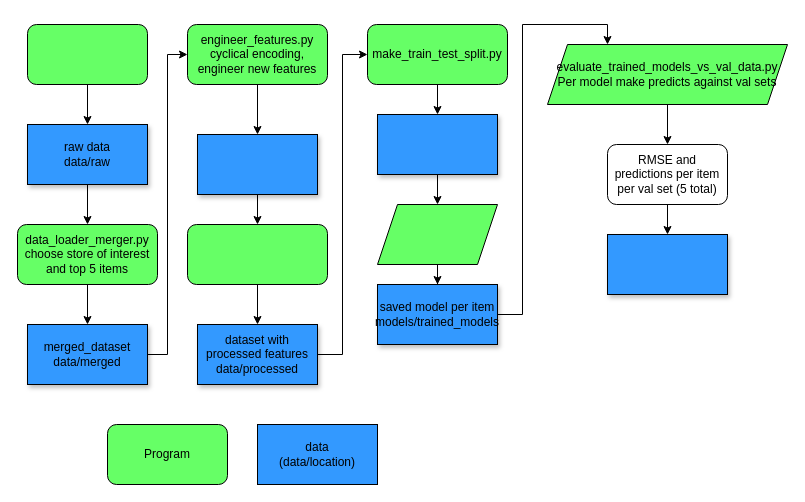
The diagram is 805 pixels wide and 502 high, and some of its shapes have lost their labels. The shapes that lost their labels are listed below. From the top down, each one's centre as x and y in pixels, then its label:
(x=87, y=54): fetch kaggle data into data/raw
(x=258, y=166): dataset with engineered features data/engineered
(x=438, y=146): train/val/test data/ready_for_training
(x=257, y=254): preprocess.py value_imputation
(x=437, y=234): train_models.py Train forecasting model per item
(x=668, y=266): Make graphs for predictions report_info/val_preds_tx1
